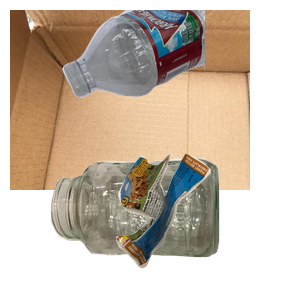cardboard: (10, 10, 250, 190)
glass: (48, 156, 260, 300)
plastic: (60, 10, 300, 100)
trash: (114, 151, 300, 300)
